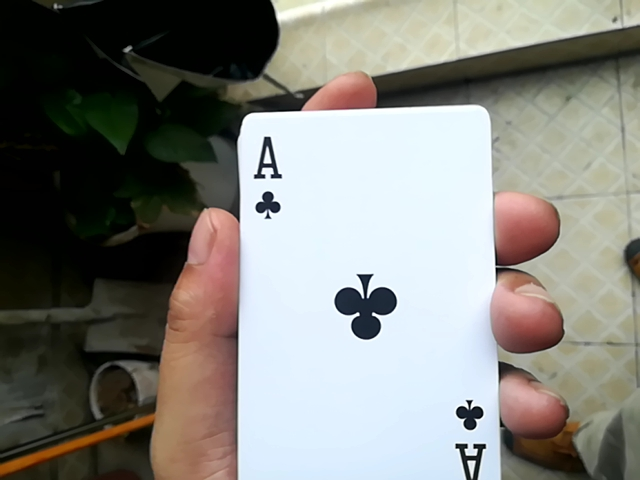mh a: (230, 100, 496, 478)
